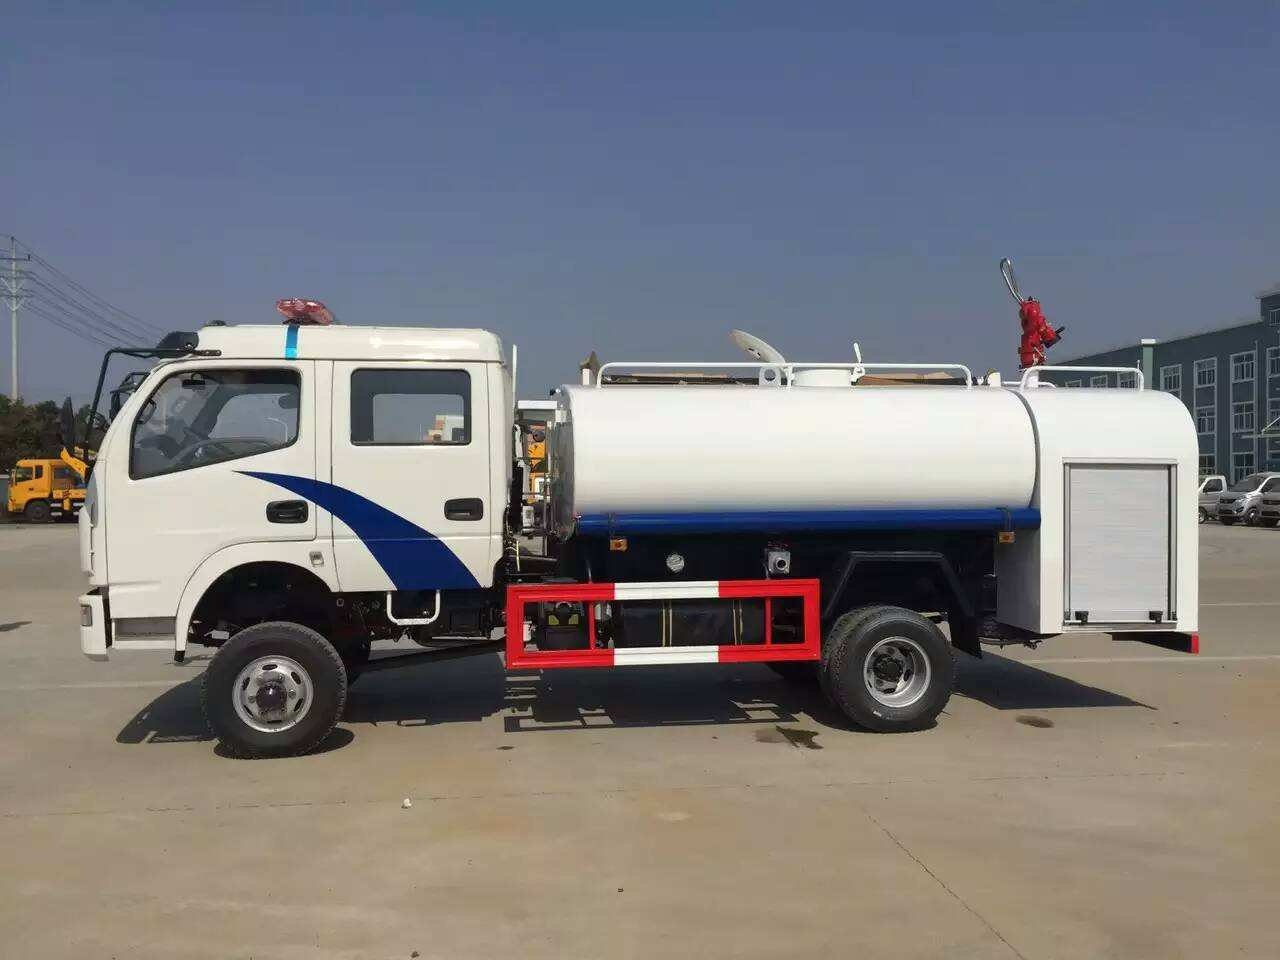truck: (51, 314, 1213, 750)
